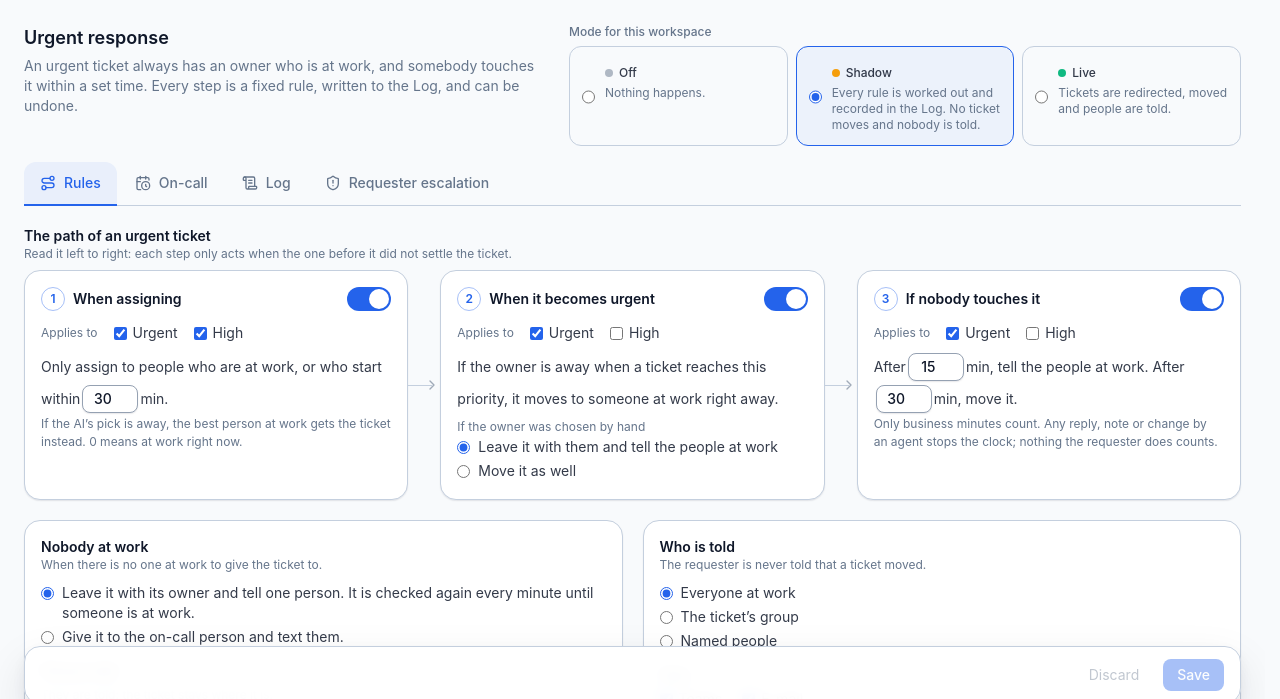
Test: Urgent response panel › going Live asks first; the mode is saved by itself
The image size is (1280, 699).
Check: the element "Mode for this workspace" is shown, box top-left (569, 24), bottom-right (1241, 146)
Click the radio button labelled "Live Tickets are redirected, moved and people are told." at (1042,97), box top-left (1035, 61), bottom-right (1048, 133)
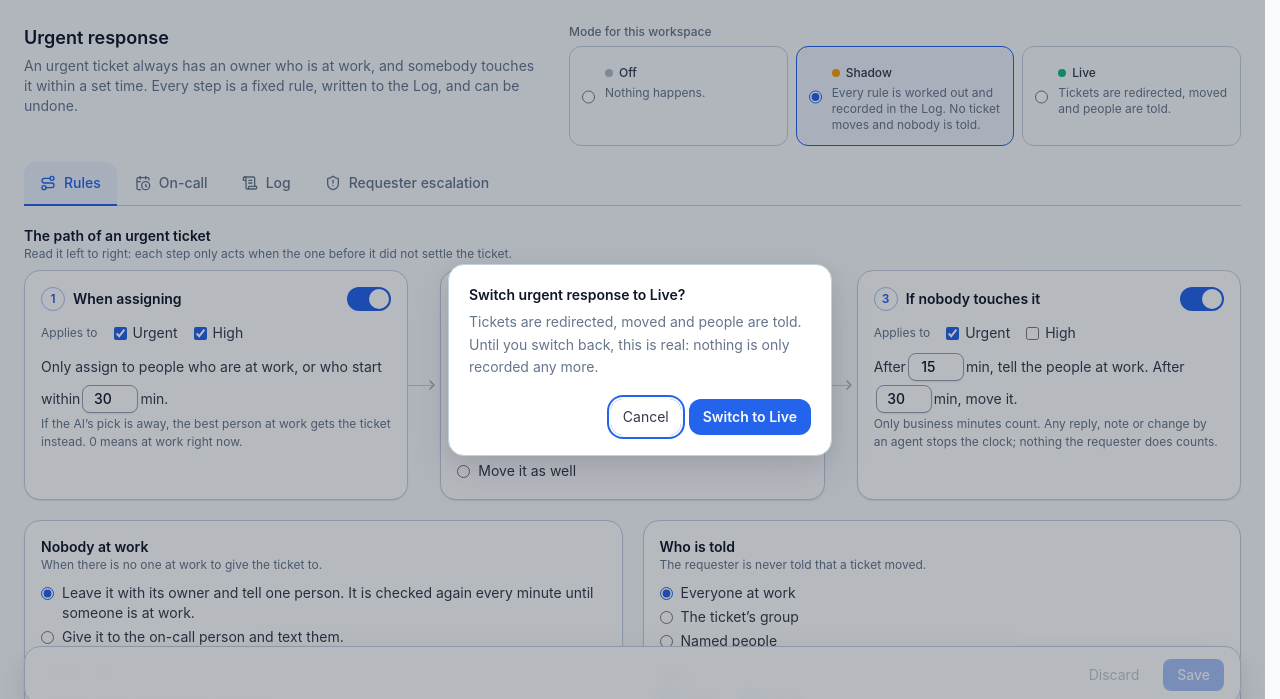
Click the button "Cancel" at (646,417), box top-left (611, 399), bottom-right (681, 435)
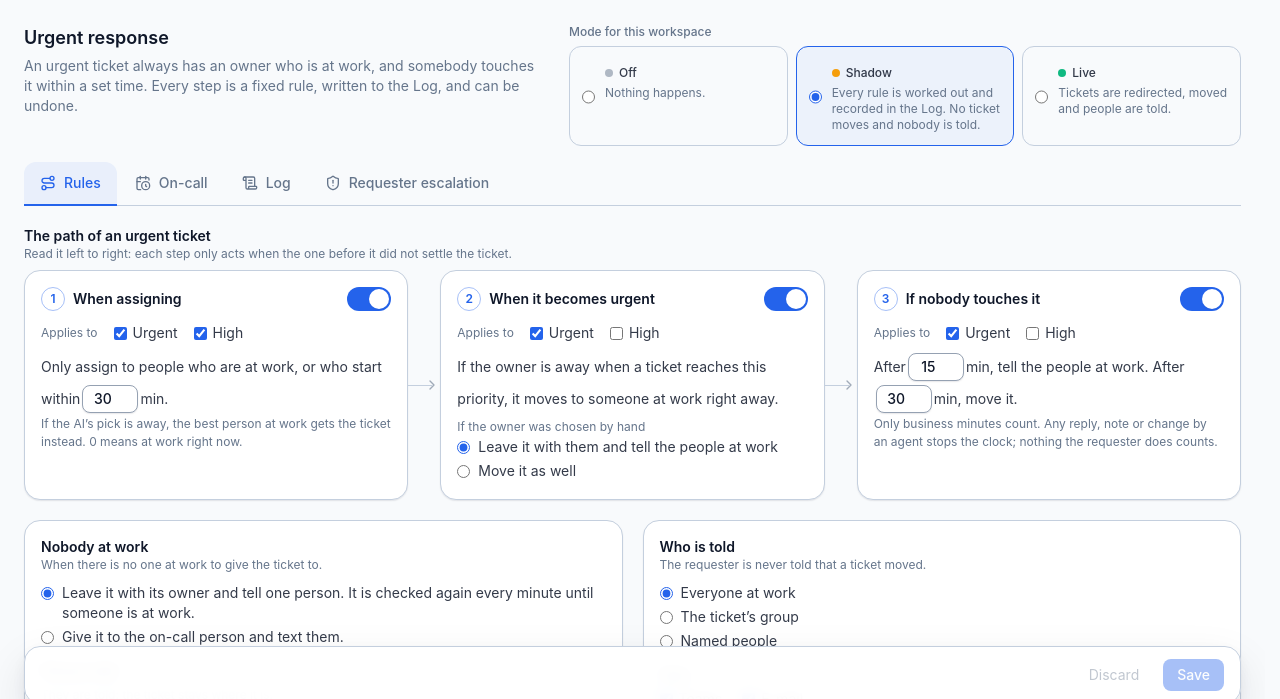
Click the radio button labelled "Live Tickets are redirected, moved and people are told." at (1042,97), box top-left (1035, 61), bottom-right (1048, 133)
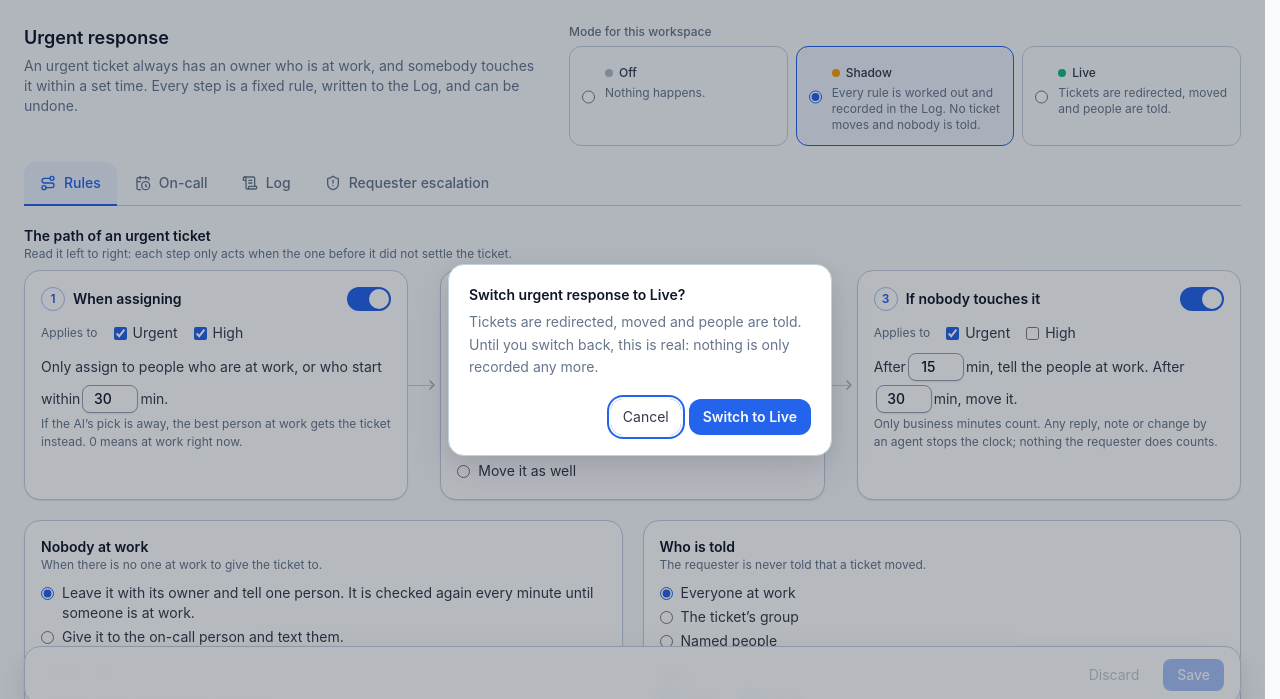
Click the button "Switch to Live" at (750,417), box top-left (689, 399), bottom-right (811, 435)
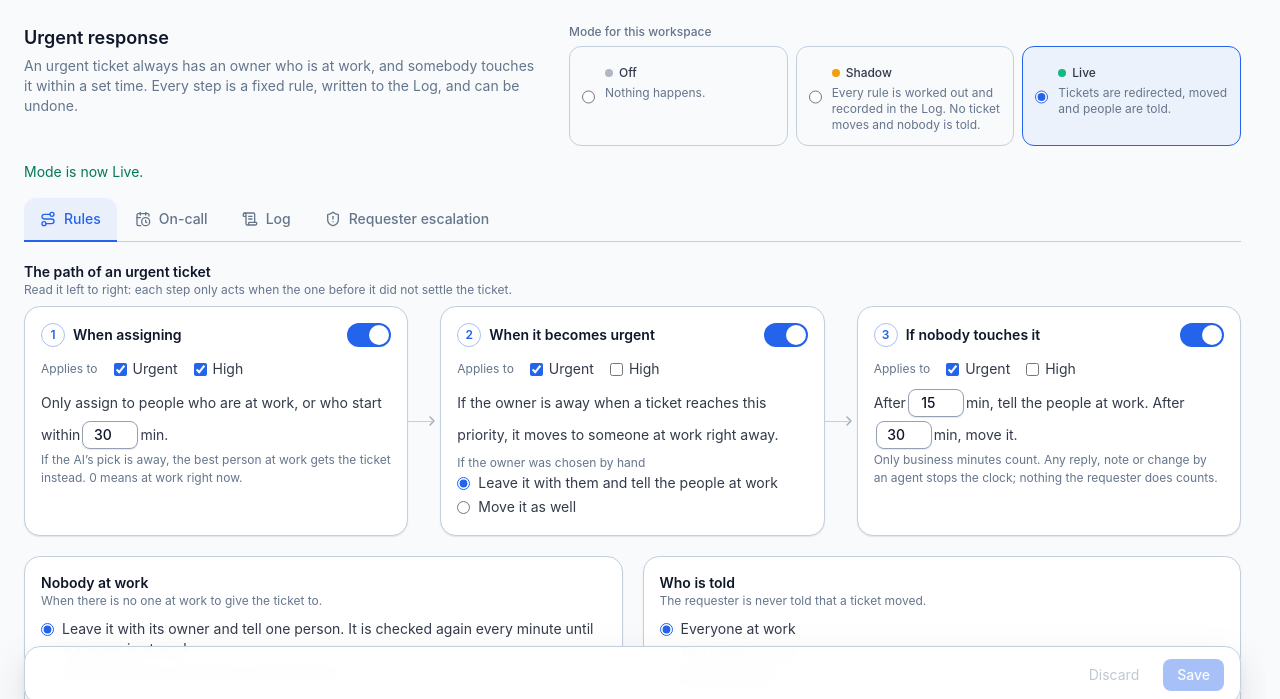
Check: the text "Mode is now Live." is shown, box top-left (24, 163), bottom-right (143, 180)
